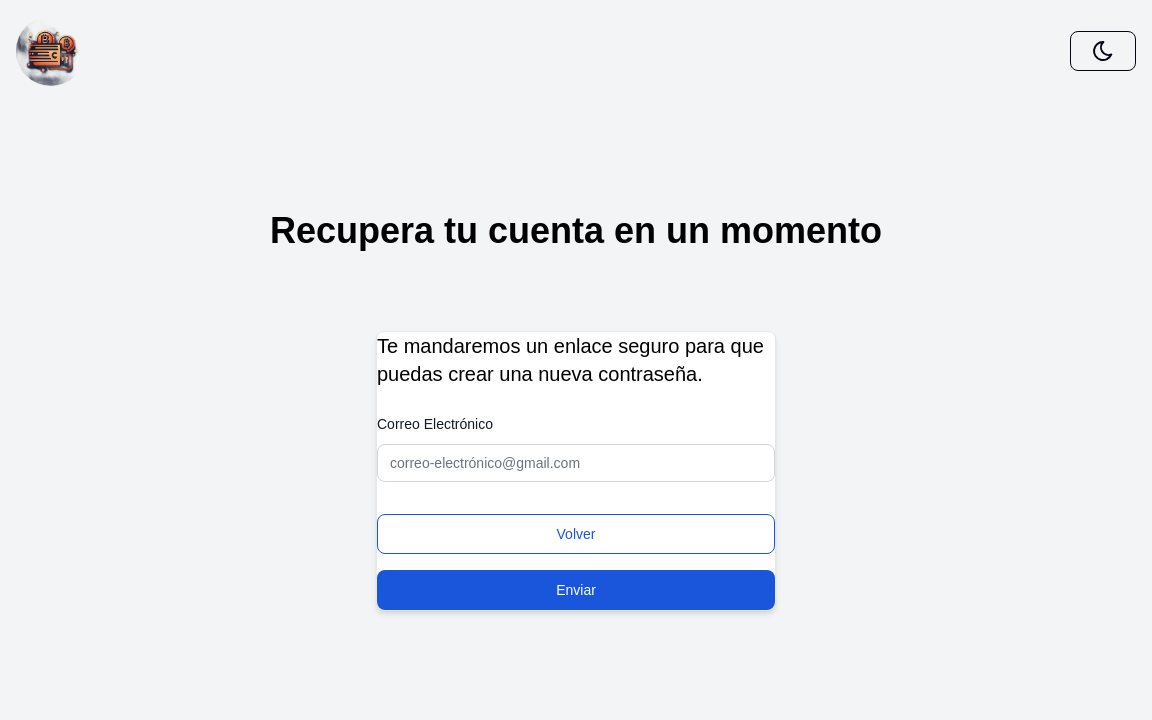
Test: ForgotPasswordPage › Send form data › Given a user entering a correct email, and something goes wrong, show error message
Type "example@example.com" into the field labelled "Correo Electrónico".
click(576, 463); type("example@example.com")  # box [377,444,775,482]
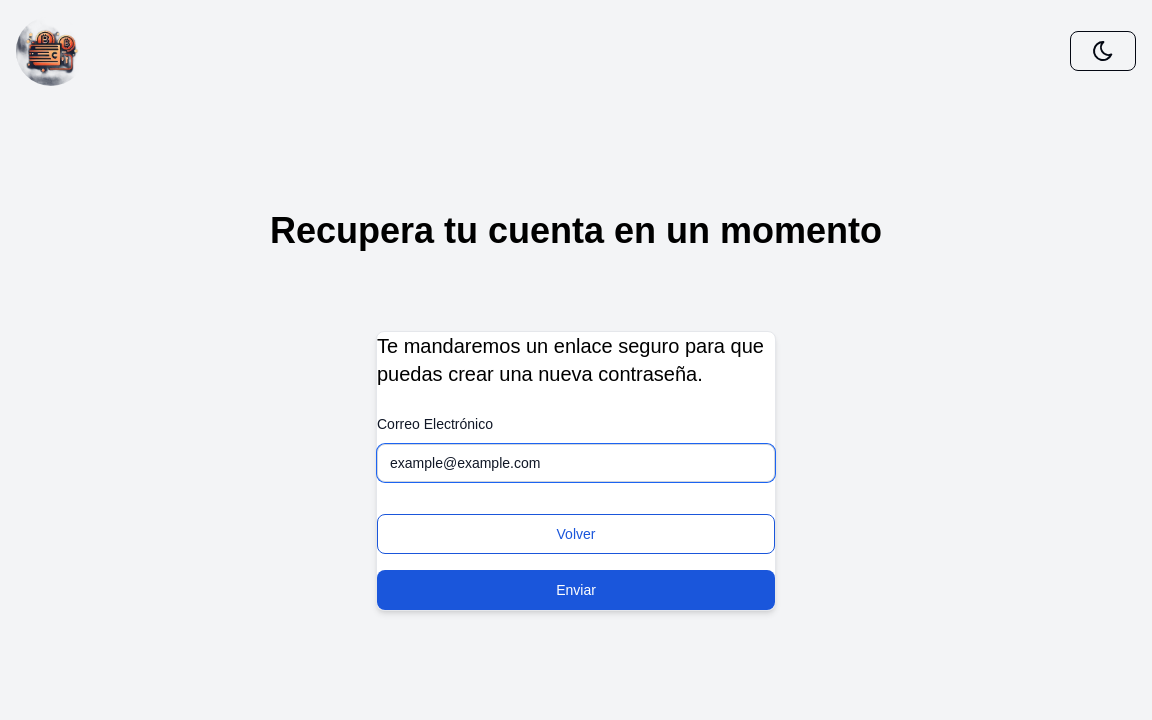
Click the button "Enviar".
click(576, 590)  # box [377,570,775,610]
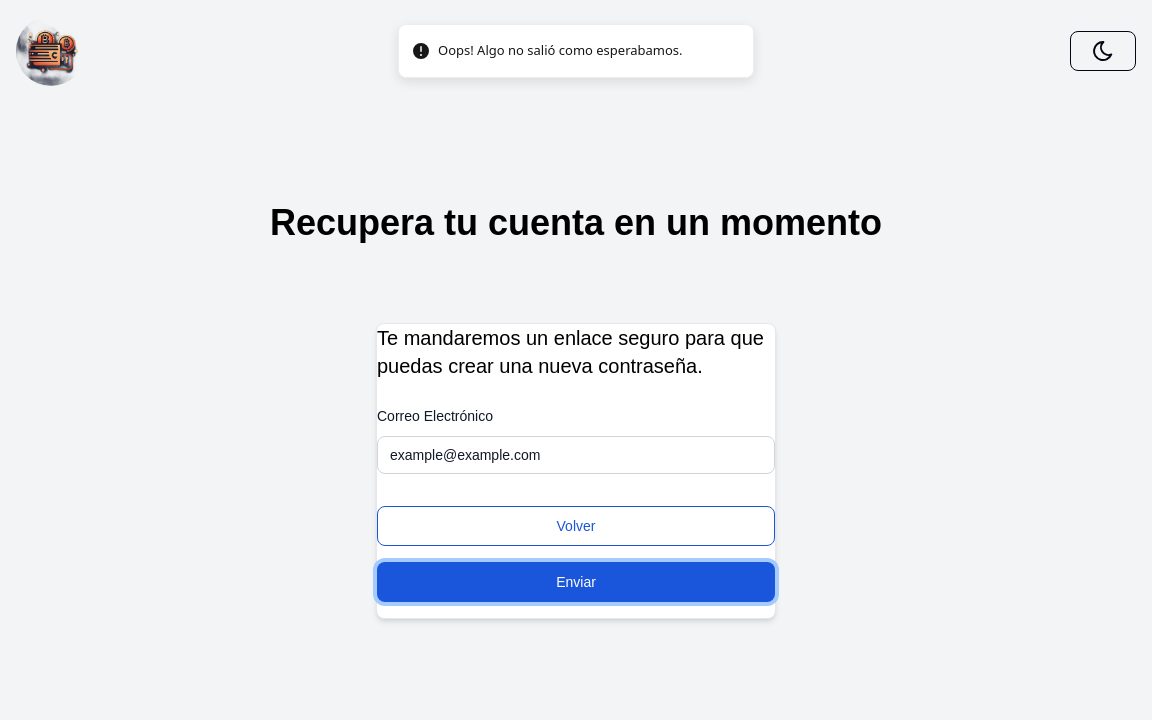
Expected: the text "Oops! Algo no salió como esperabamos." is shown, [438,41,683,60]
